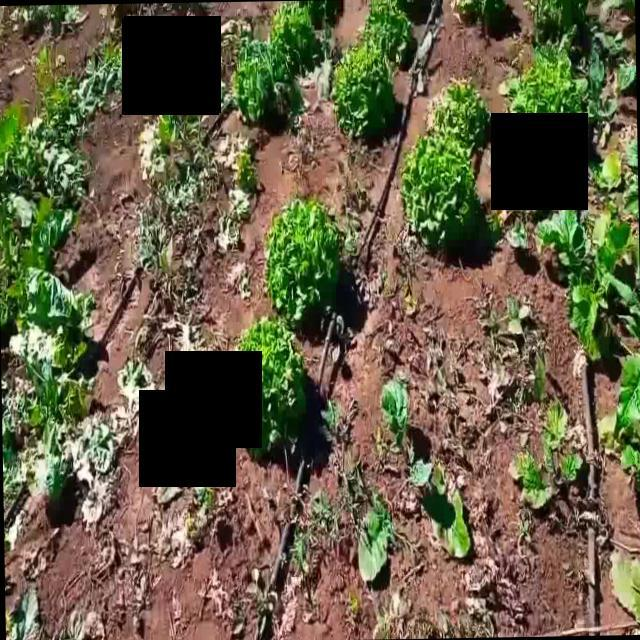Lettuce: (262, 196, 348, 330), (234, 314, 302, 462), (399, 131, 477, 247), (231, 39, 298, 138), (504, 43, 588, 119), (332, 47, 398, 143), (431, 80, 490, 154), (360, 0, 415, 63), (270, 3, 317, 65), (449, 0, 509, 25)
